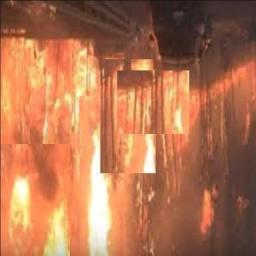Heavy smoke: (128, 98, 255, 255)
Large fire: (1, 1, 197, 256)
